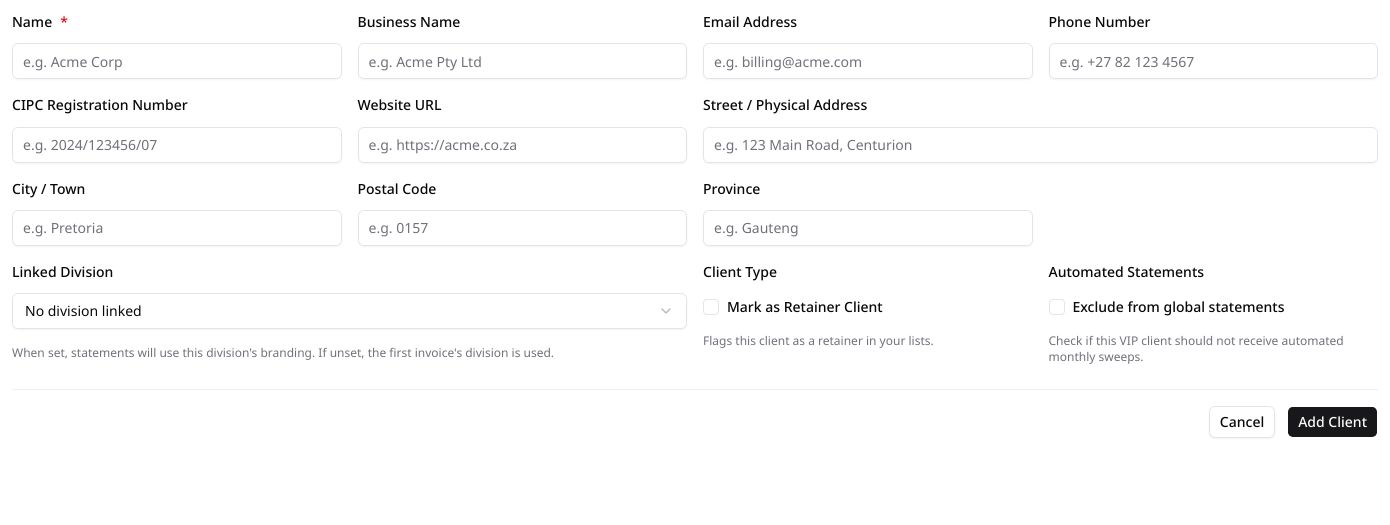
it: ClientAddForm › shows inline error on failed save
The width and height of the screenshot is (1390, 525).
In the field with placeholder "e.g. Acme Corp": {"x": 177, "y": 61} [12,43,342,79], type "Test Client"
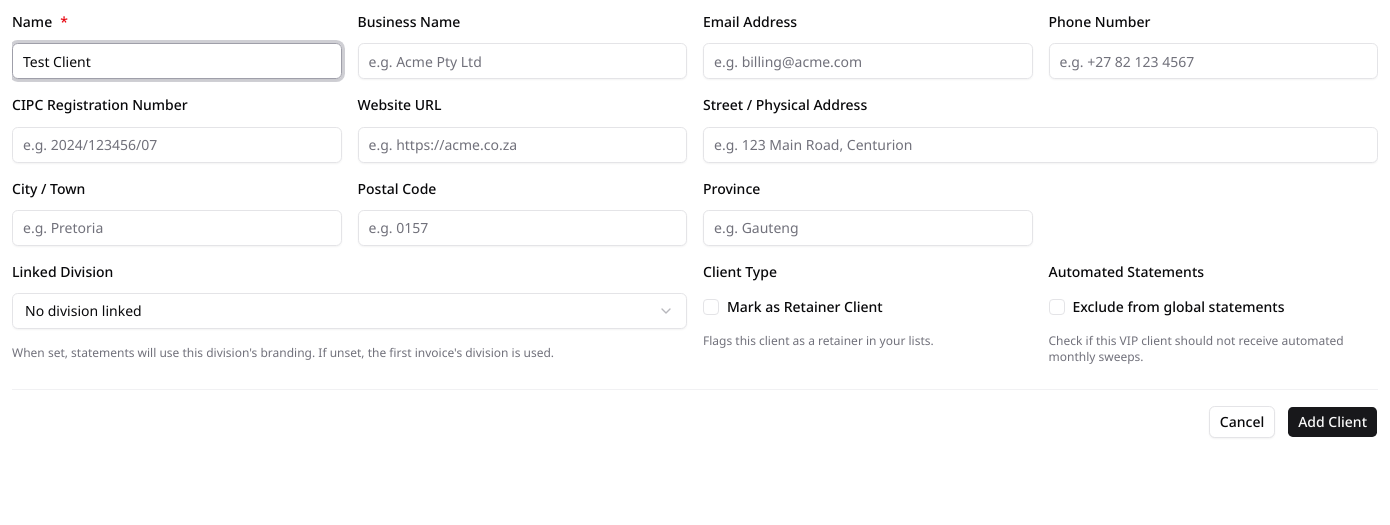
Click the button "Add Client": {"x": 1333, "y": 422} [1287,406,1378,438]
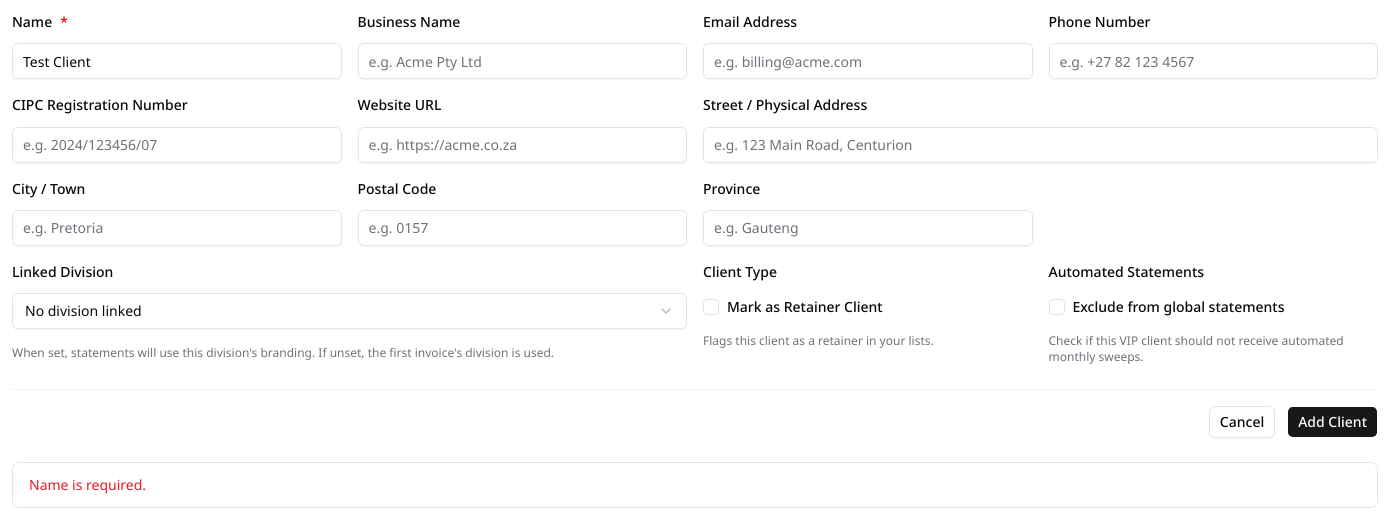
Result: the text "Name is required." is shown at [29,475,146,494]
